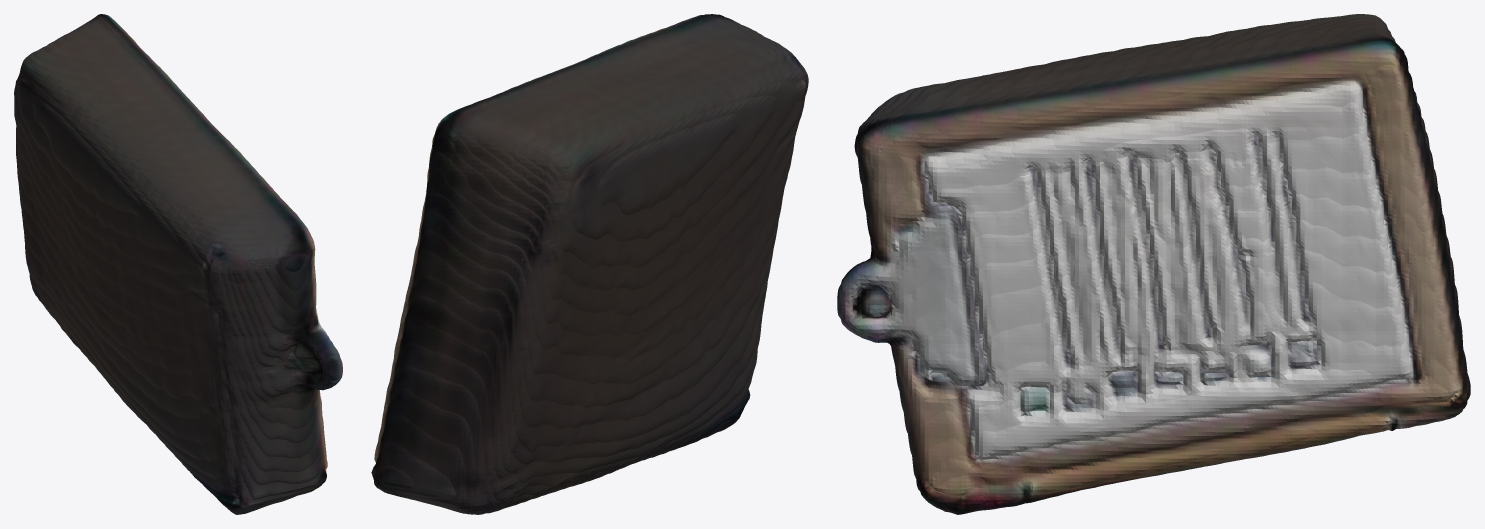
The model's file is triposr_checklist_clipboard.glb.
3 views of the same model, side by side, from view 1: azimuth 30°, elevation 25°; view 2: azimuth 150°, elevation 25°; view 3: azimuth 270°, elevation 25° (orthographic). The views are drawn at different scales.
Visible parts, largest first — view 1: geometry_0; view 2: geometry_0; view 3: geometry_0.
Part boxes in pixels (left/top/right/bottom): geometry_0: left=14, top=14, right=342, bottom=514; geometry_0: left=371, top=14, right=808, bottom=514; geometry_0: left=837, top=14, right=1470, bottom=514.
Size of the model in its own units: 0.3424 by 0.8291 by 1.04.
